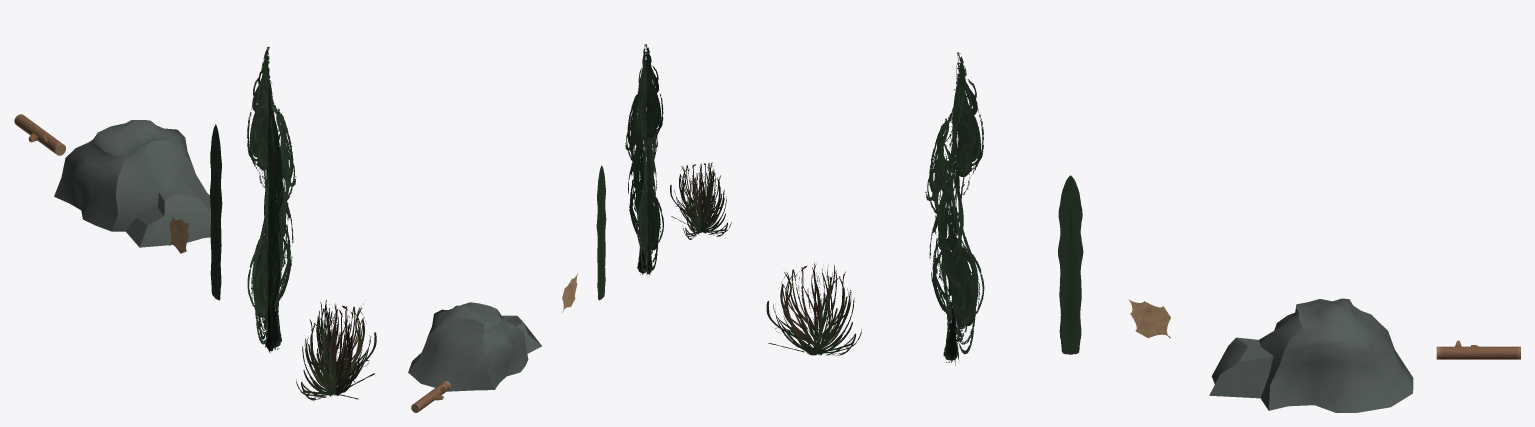
The model's file is underwater-decorations.glb.
3 renders of one model, left to right at view 1: azimuth 30°, elevation 25°; view 2: azimuth 150°, elevation 25°; view 3: azimuth 270°, elevation 25°, orthographic. The views are drawn at different scales.
Parts seen in each view (by area): view 1: Rock_Rock1_0, pPlane1_Seablob_0, pasted__pPlane1_Bush_0, Vine_Seaweed_0, Log1_Log_0, Leaf2_pasted__Leaf_0; view 2: Rock_Rock1_0, pPlane1_Seablob_0, pasted__pPlane1_Bush_0, Vine_Seaweed_0, Log1_Log_0, Leaf2_pasted__Leaf_0; view 3: Rock_Rock1_0, pPlane1_Seablob_0, pasted__pPlane1_Bush_0, pasted__Vine_pasted__Seaweed_0, Log1_Log_0, Leaf2_pasted__Leaf_0.
Part boxes in pixels (left/top/right/bottom): Rock_Rock1_0: left=54, top=120, right=222, bottom=247; pPlane1_Seablob_0: left=247, top=46, right=296, bottom=352; pasted__pPlane1_Bush_0: left=296, top=300, right=376, bottom=400; Vine_Seaweed_0: left=210, top=124, right=222, bottom=300; Log1_Log_0: left=14, top=114, right=65, bottom=155; Leaf2_pasted__Leaf_0: left=169, top=217, right=189, bottom=253; Rock_Rock1_0: left=408, top=302, right=541, bottom=391; pPlane1_Seablob_0: left=625, top=44, right=663, bottom=274; pasted__pPlane1_Bush_0: left=670, top=162, right=731, bottom=239; Vine_Seaweed_0: left=596, top=165, right=606, bottom=300; Log1_Log_0: left=411, top=381, right=450, bottom=412; Leaf2_pasted__Leaf_0: left=562, top=273, right=577, bottom=312; Rock_Rock1_0: left=1209, top=298, right=1413, bottom=412; pPlane1_Seablob_0: left=925, top=52, right=984, bottom=365; pasted__pPlane1_Bush_0: left=766, top=262, right=861, bottom=355; pasted__Vine_pasted__Seaweed_0: left=1058, top=175, right=1083, bottom=354; Log1_Log_0: left=1436, top=340, right=1520, bottom=359; Leaf2_pasted__Leaf_0: left=1128, top=299, right=1170, bottom=338.
Bounding box in the file's own units: 0.0555 × 0.0904 × 0.1962.
7 materials, 7 textured.
